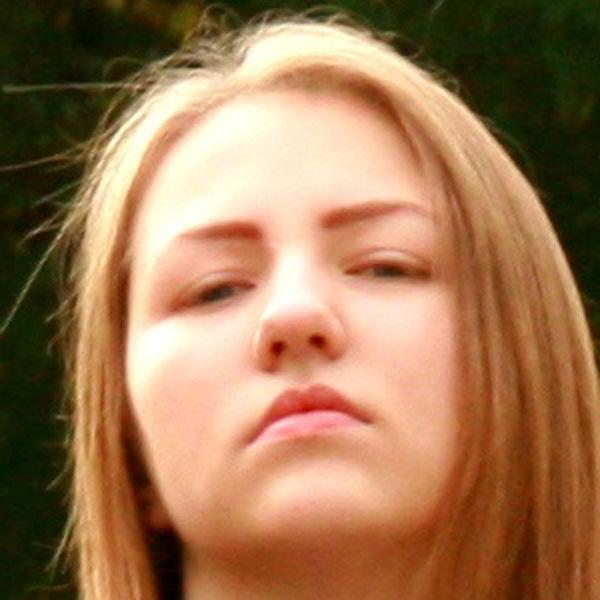Eyes: (335, 236, 440, 298), (164, 258, 262, 324)
